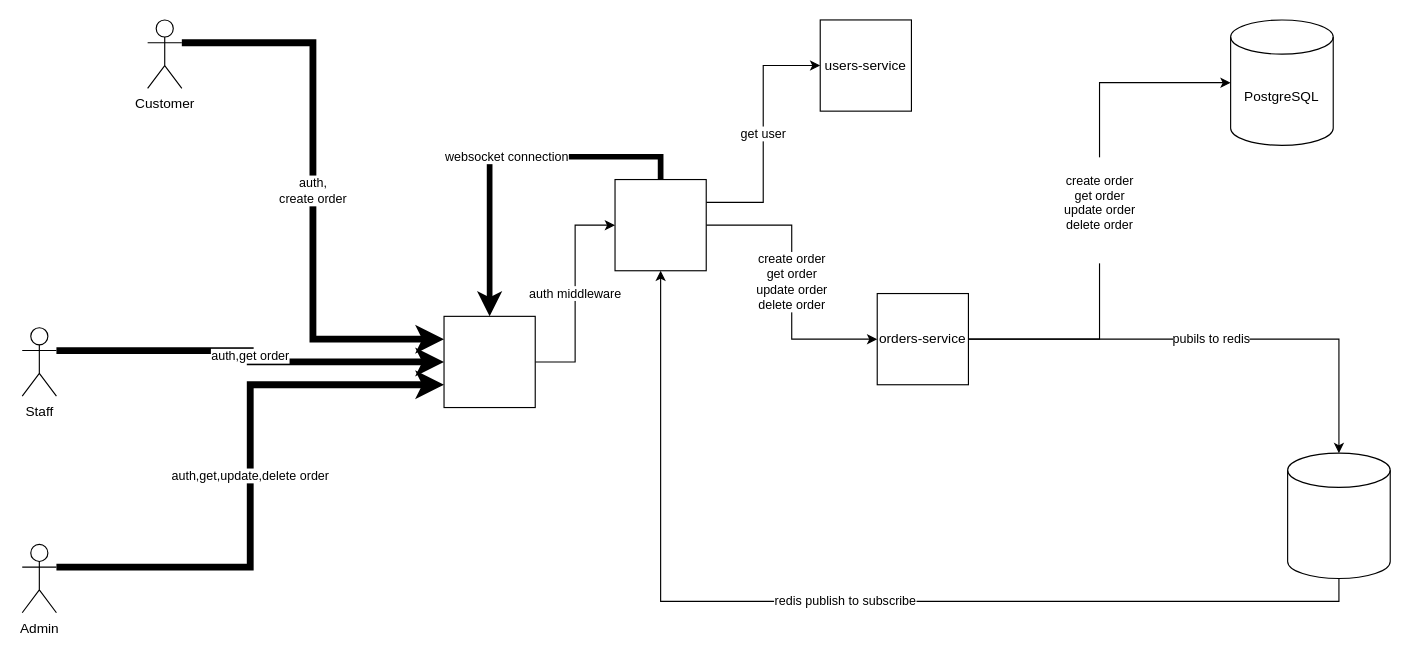
The diagram is 1410 pixels wide and 657 high, and some of its shapes have lost their labels. The centre of each missing label's shape, as x and y in pixels:
"frontend" goes at point (489, 361).
"gateway" goes at point (660, 224).
"Redis" goes at point (1338, 515).
